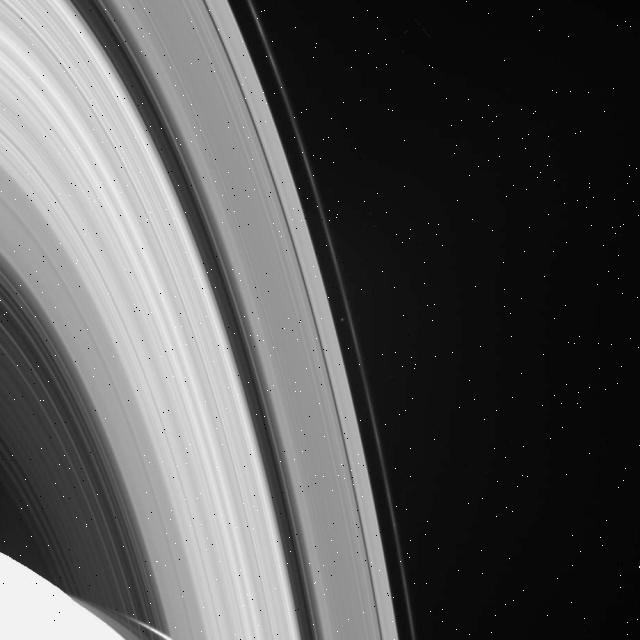Saturn: (0, 0, 427, 640)
